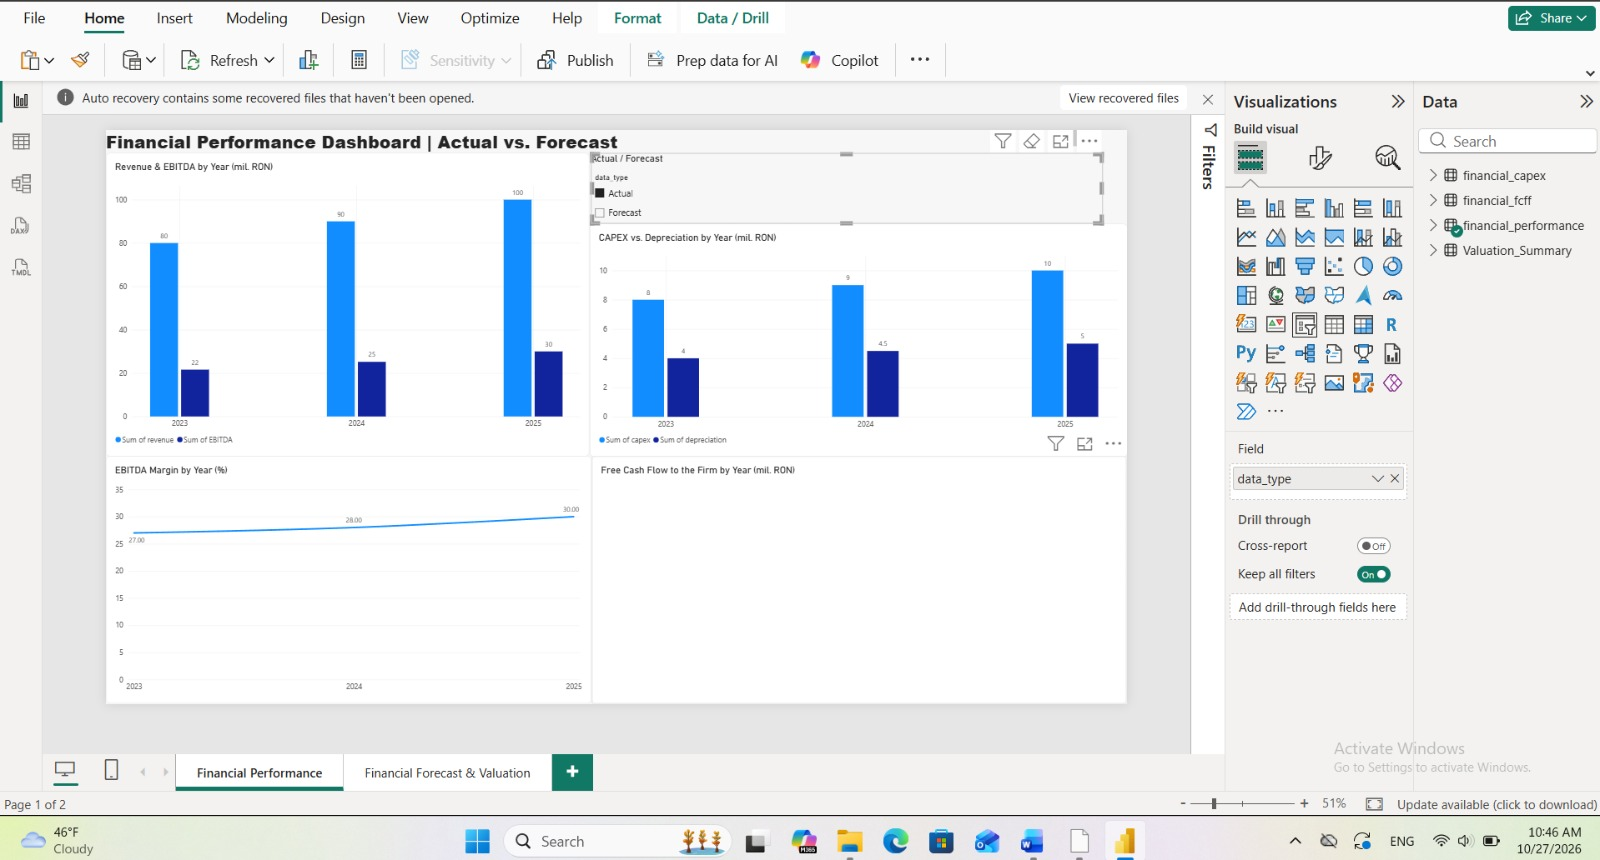

The dashboard page shown, as its layout file describes it:
{"tool":"powerbi","page":{"name":"Financial Performance","canvas":[1920,1080],"ordinal":0},"visuals":[{"type":"clusteredColumnChart","title":"Revenue & EBITDA by Year (mil. RON)","fields":{"Category":["financial_performance.year"],"Y":["Sum(financial_performance.revenue)","Sum(financial_performance.EBITDA)"]},"box":[0,43.6,909.1,570.9],"z":0},{"type":"lineChart","title":"EBITDA Margin by Year (%)","fields":{"Category":["financial_performance.year"],"Y":["Avg(financial_performance.EBITDA_margin_pct)"]},"box":[0,614.5,912.7,465.5],"z":1000},{"type":"slicer","title":"Actual / Forecast","fields":{"Values":["financial_performance.data_type"]},"box":[912.7,43.6,961.8,132.7],"z":2000},{"type":"clusteredColumnChart","title":"CAPEX vs. Depreciation by Year (mil. RON)","fields":{"Category":["financial_capex.year"],"Y":["Sum(financial_capex.capex)","Sum(financial_capex.depreciation)"]},"box":[909.1,176.4,1010.9,438.2],"z":3000},{"type":"clusteredColumnChart","title":"Free Cash Flow to the Firm by Year (mil. RON)","fields":{"Category":["financial_fcff.year"],"Y":["Sum(financial_fcff.FCFF)"]},"box":[914.5,614.5,1005.5,465.5],"z":4000},{"type":"textbox","box":[1731,62.5,189,150],"z":5000},{"type":"textbox","box":[0,0,1825.5,43.6],"z":6000}]}

Visuals, with their boxes on the page's 1920x1080 design canvas (x1, y1, x2, y2). These are canvas units, not pixel positions in the 1600x860 screenshot, which may show the page scaled, cropped or inside an application window:
"Revenue & EBITDA by Year (mil. RON)" clusteredColumnChart: <bbox>0, 44, 909, 614</bbox>
"EBITDA Margin by Year (%)" lineChart: <bbox>0, 614, 913, 1080</bbox>
"Actual / Forecast" slicer: <bbox>913, 44, 1874, 176</bbox>
"CAPEX vs. Depreciation by Year (mil. RON)" clusteredColumnChart: <bbox>909, 176, 1920, 615</bbox>
"Free Cash Flow to the Firm by Year (mil. RON)" clusteredColumnChart: <bbox>914, 614, 1920, 1080</bbox>
textbox: <bbox>1731, 62, 1920, 212</bbox>
textbox: <bbox>0, 0, 1826, 44</bbox>
